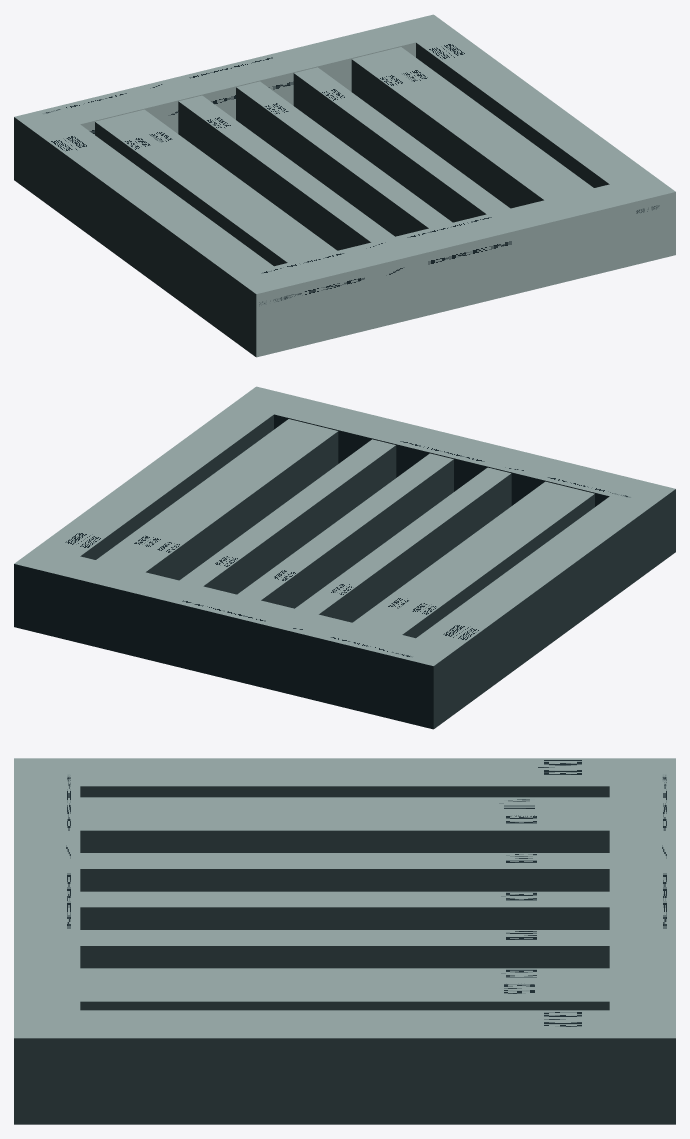
File: coladera_piso.glb
3 views of the same model, one above another, from view 1: azimuth 30°, elevation 25°; view 2: azimuth 150°, elevation 25°; view 3: azimuth 270°, elevation 25° (orthographic). The views are drawn at different scales.
Visible parts, largest first — view 1: ELECTRICO; view 2: ELECTRICO; view 3: ELECTRICO.
Part boxes in pixels (x1,y1,x2,y2): ELECTRICO: (14, 14, 675, 357); ELECTRICO: (14, 386, 675, 729); ELECTRICO: (14, 758, 675, 1124).
Bounding box in the file's own units: 0.381 × 0.0549 × 0.381.
Materials: 1 (1 with a texture image).
